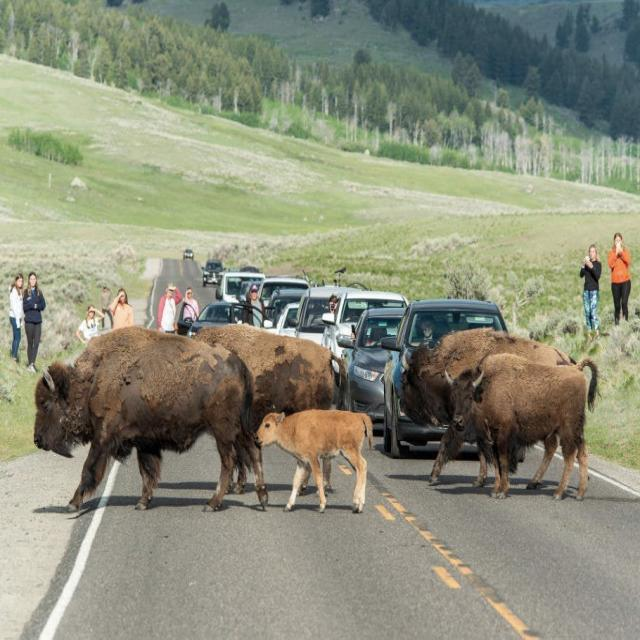bison: (34, 327, 269, 510), (395, 328, 577, 486), (451, 354, 597, 498), (257, 409, 372, 512)
